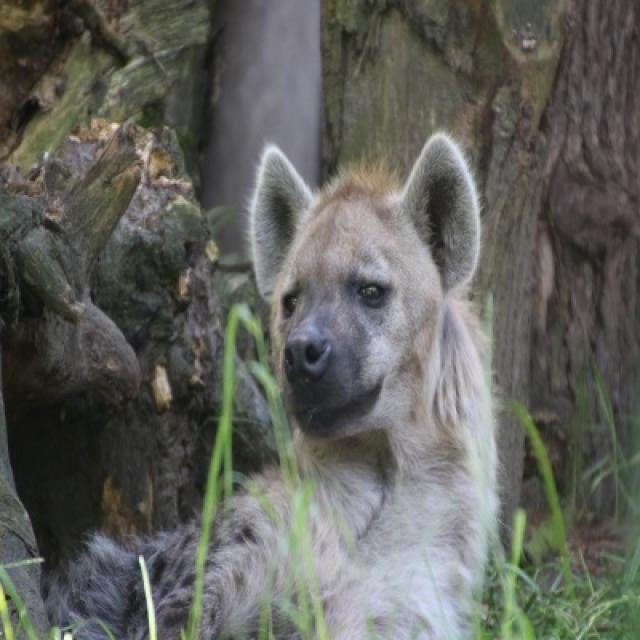hyena: (69, 133, 499, 638)
